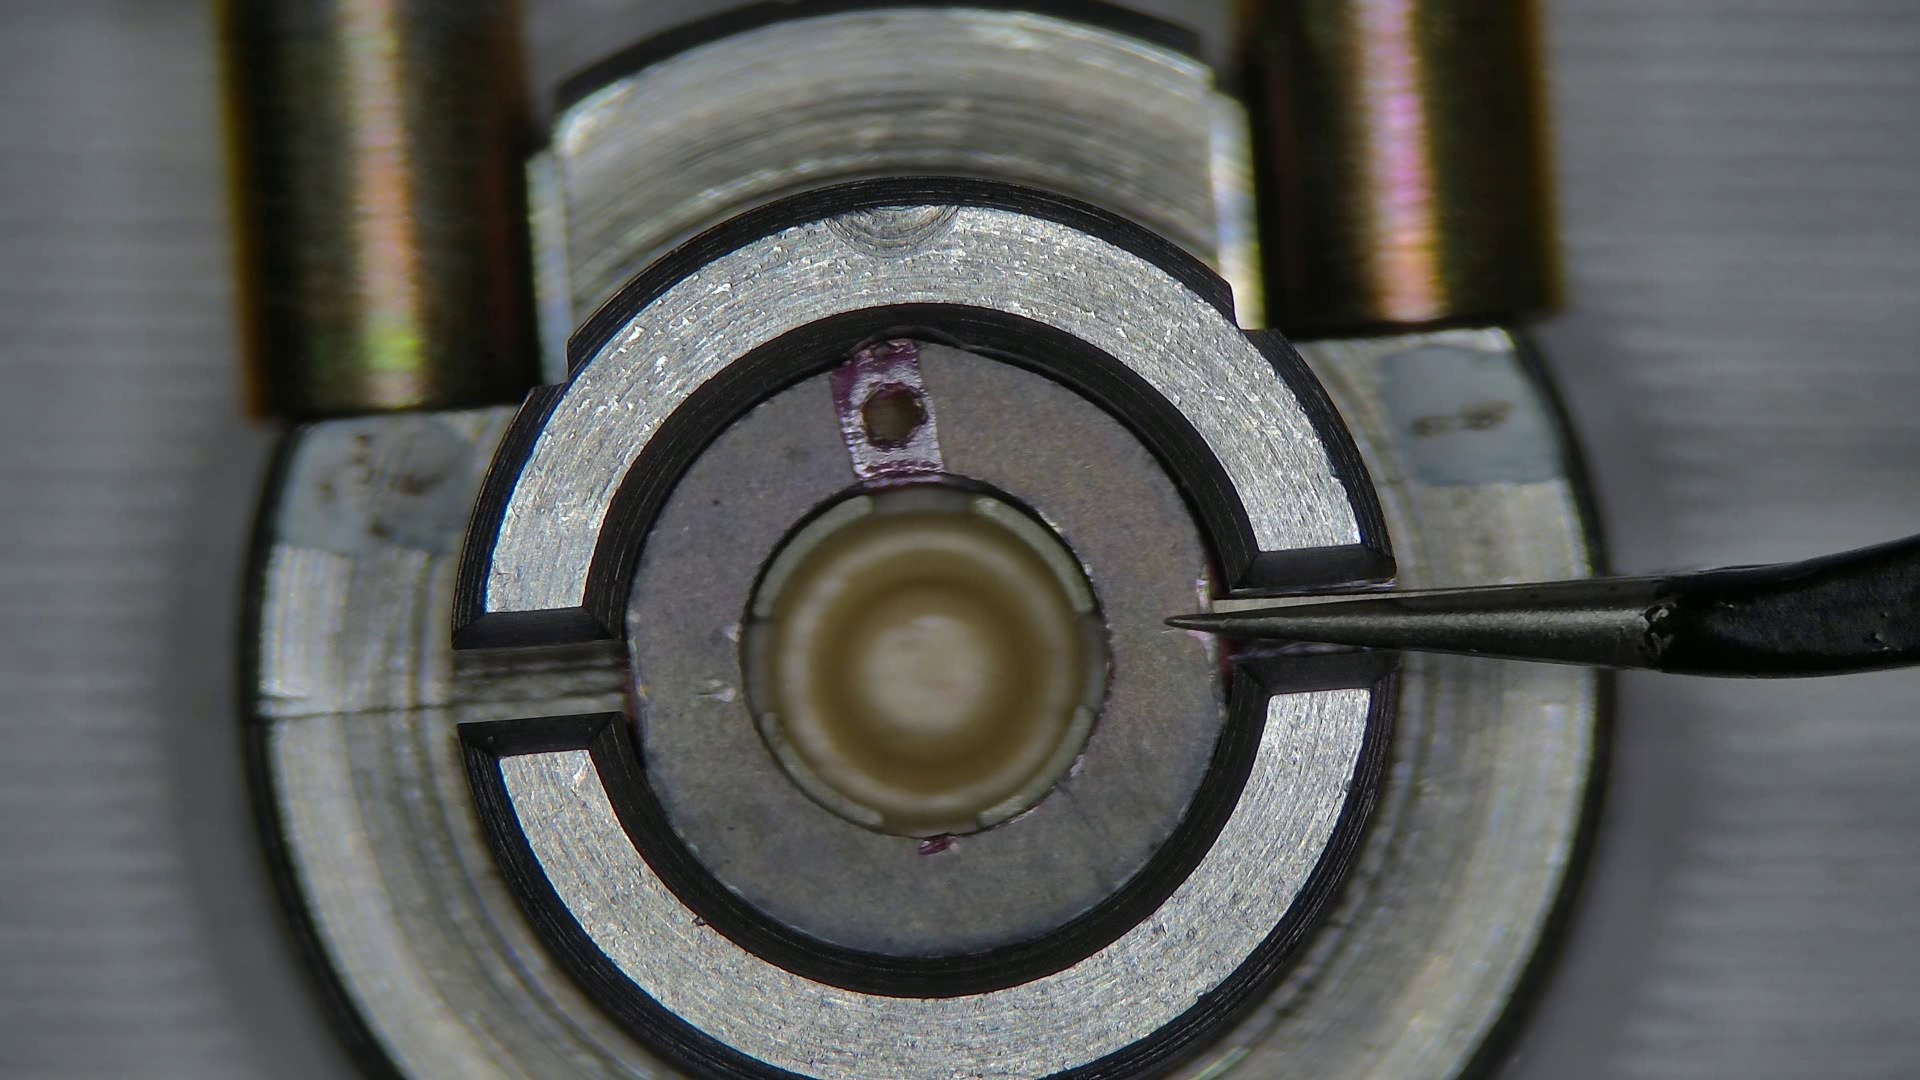YellowOring: (627, 343, 1222, 959)
